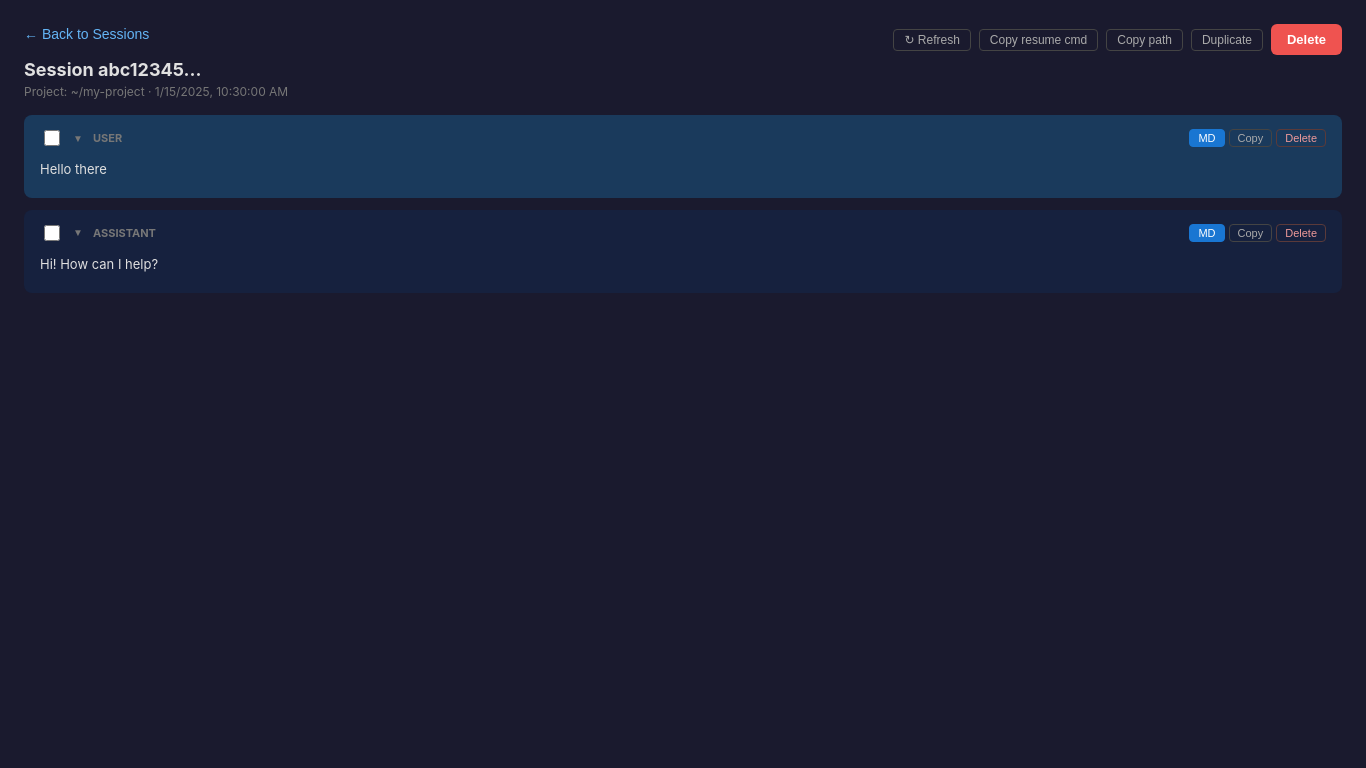
Test: SessionDetail › message delete flow › dismisses dialog on cancel without deleting
This screenshot has width=1366, height=768.
Expected: the text "Hello there" is shown, left=40, top=161, right=107, bottom=177
Click the button "Delete" in the row of "user" at (1301, 138), box left=1276, top=129, right=1326, bottom=147
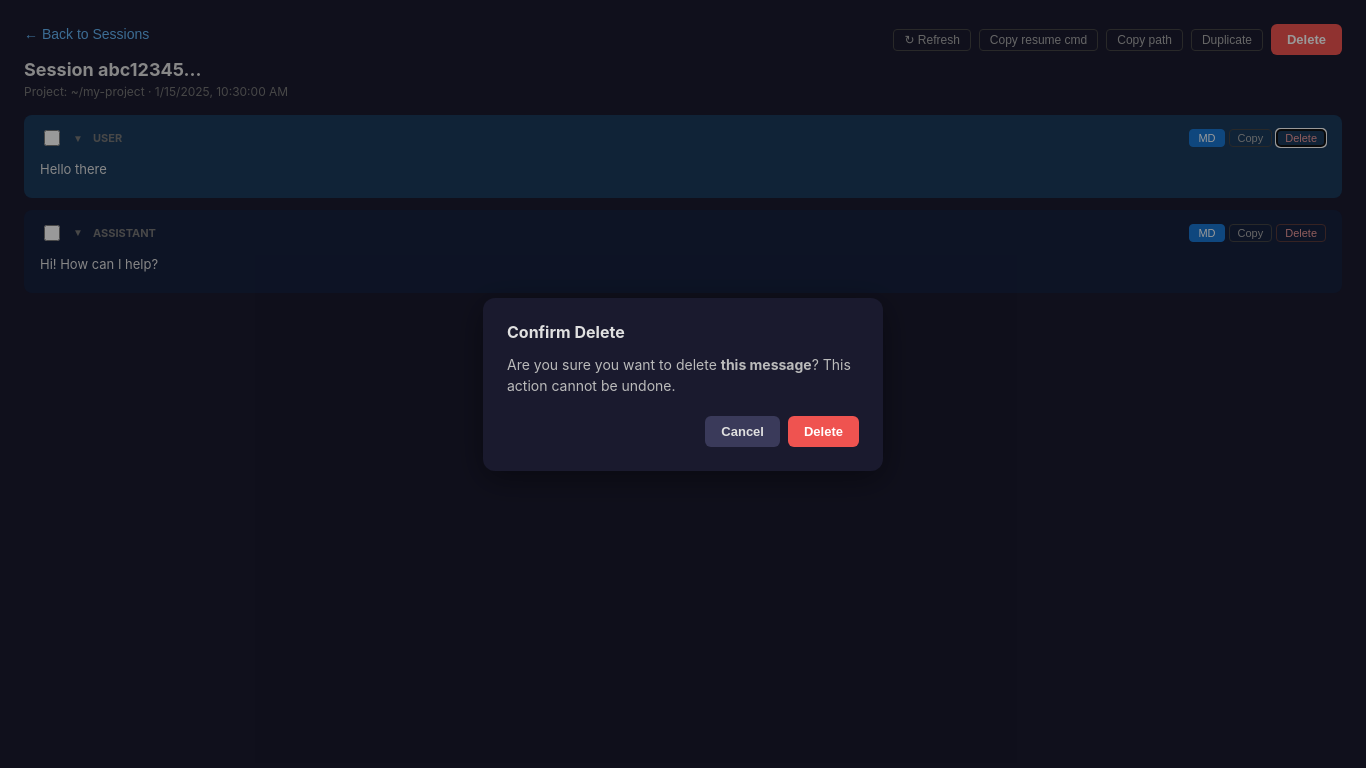
Expected: the text "Are you sure" is shown, left=507, top=356, right=721, bottom=372
Click the button "Cancel" at (743, 431), box left=705, top=416, right=780, bottom=446
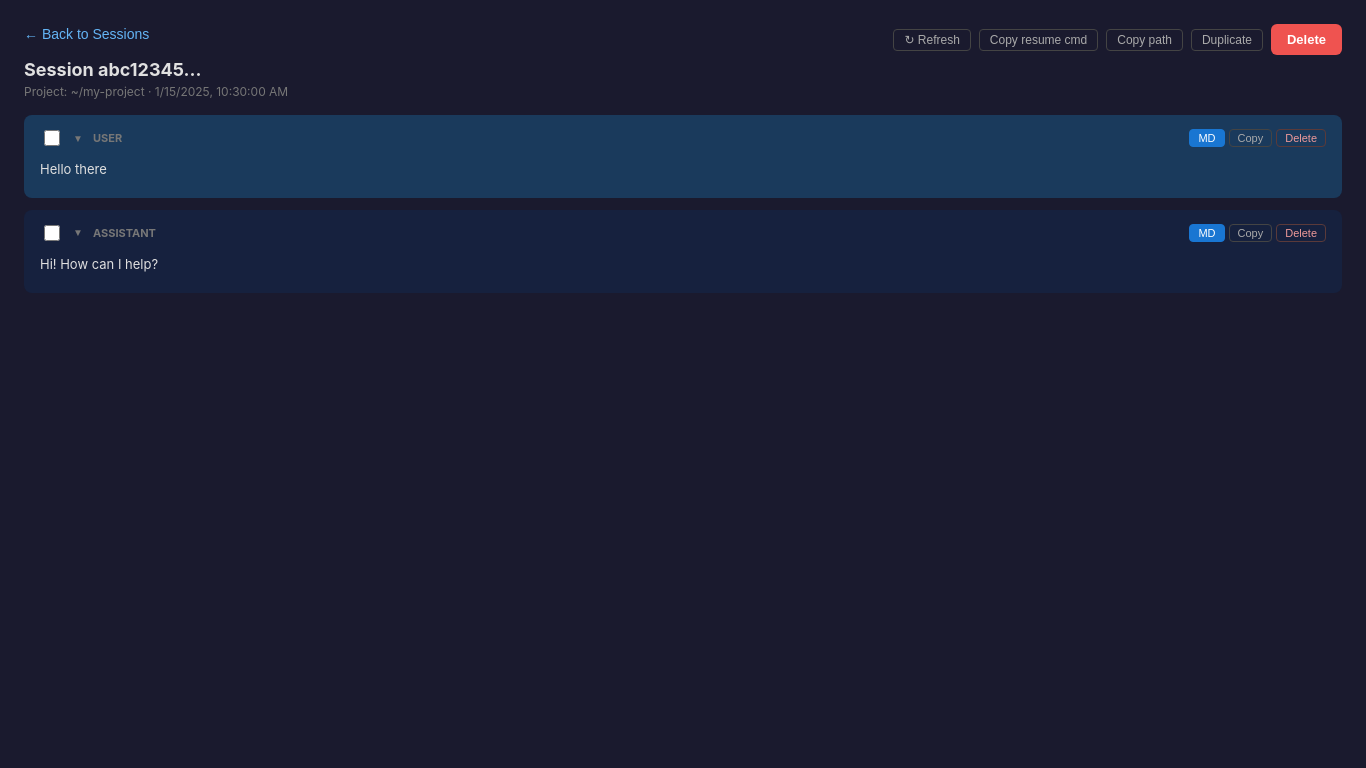
Expected: the text "Hello there" is shown, left=40, top=161, right=107, bottom=177
Expected: the text "Are you sure" is gone
